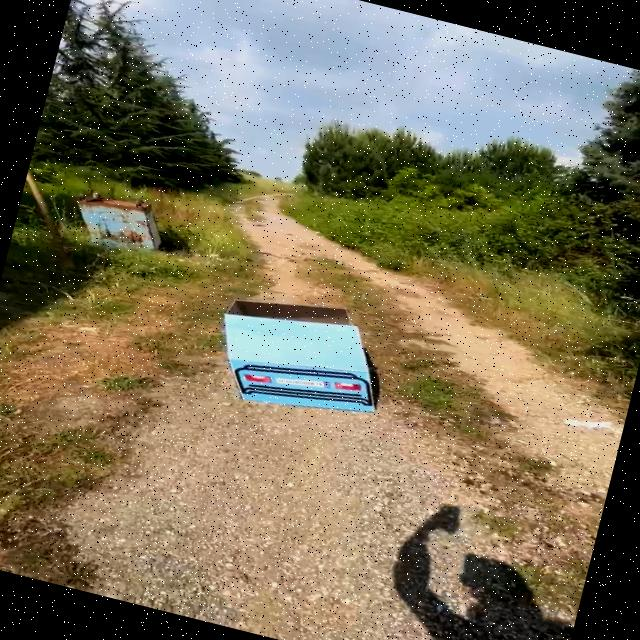blue_car: (191, 254, 413, 445)
